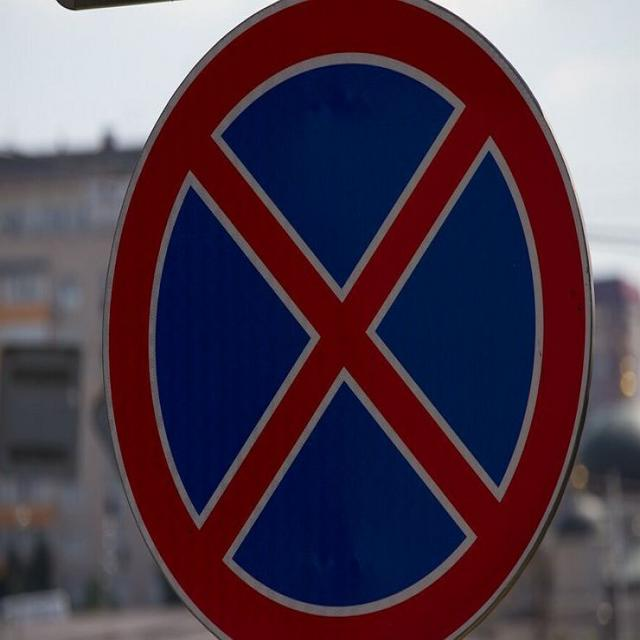no stopping: (95, 0, 600, 640)
